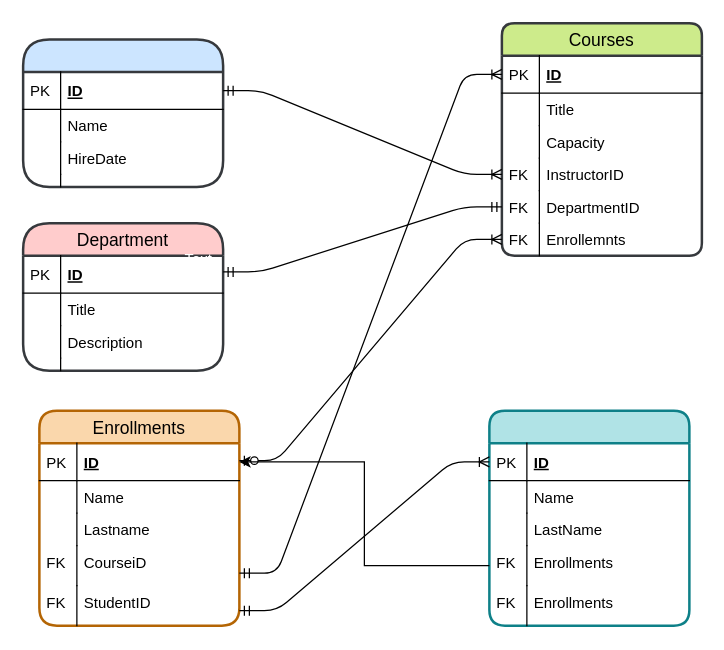
This 724x650 diagram has some shape labels left out. Each missing label, with the box of its shape:
Instructor: (21, 38, 224, 188)
Student: (488, 409, 690, 626)
